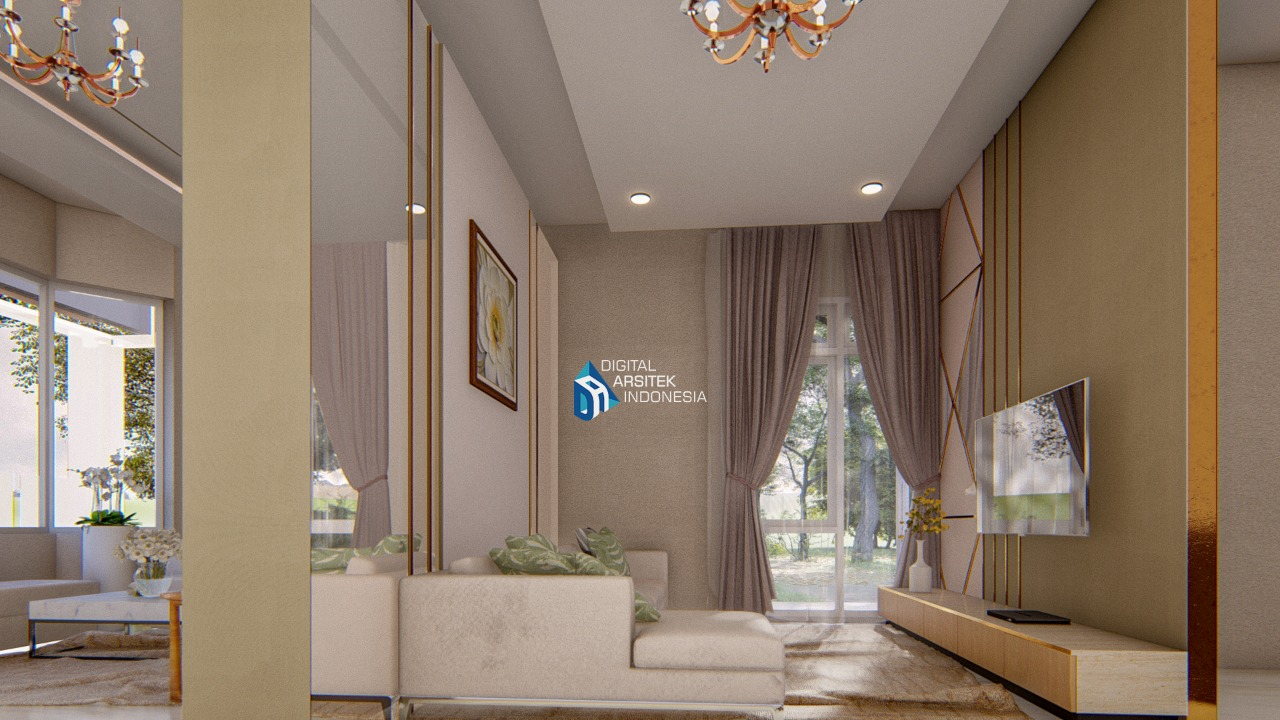lampu: (656, 1, 877, 87), (15, 1, 158, 112)
lukisan: (466, 217, 522, 413)
sova: (395, 527, 790, 720)
tanaman: (74, 461, 138, 601)
